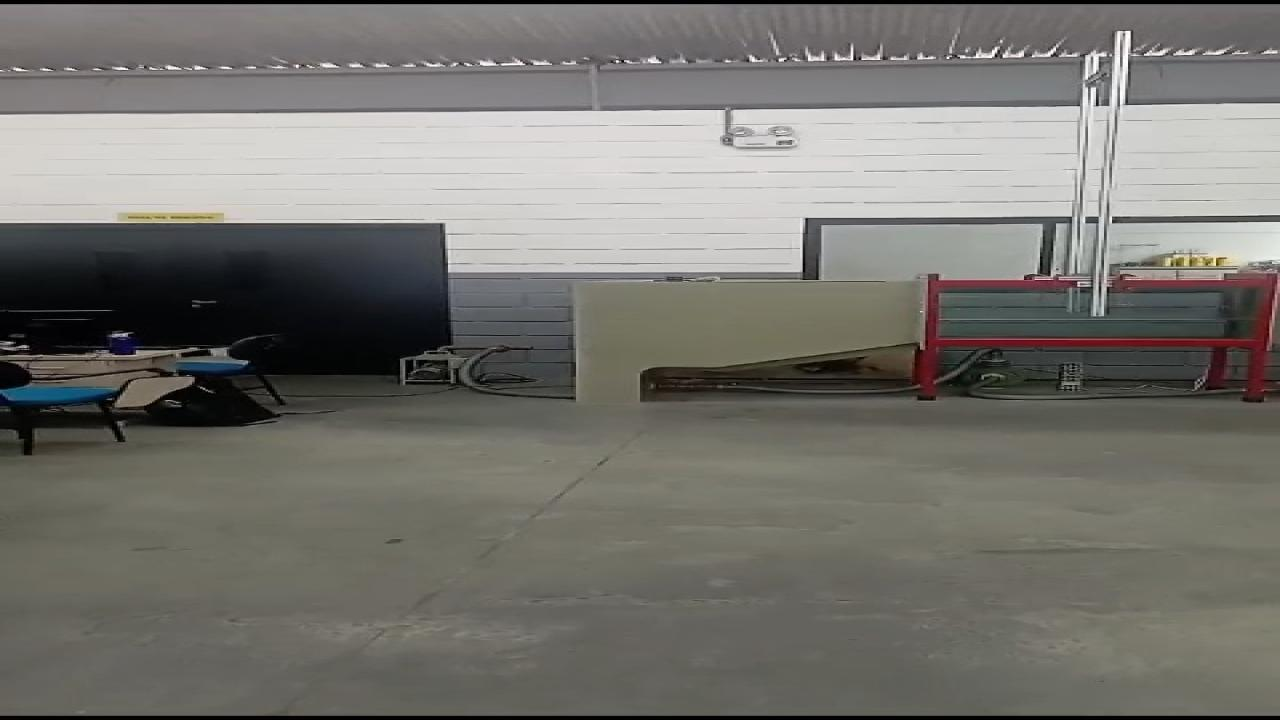Cube: (666, 276, 684, 282)
